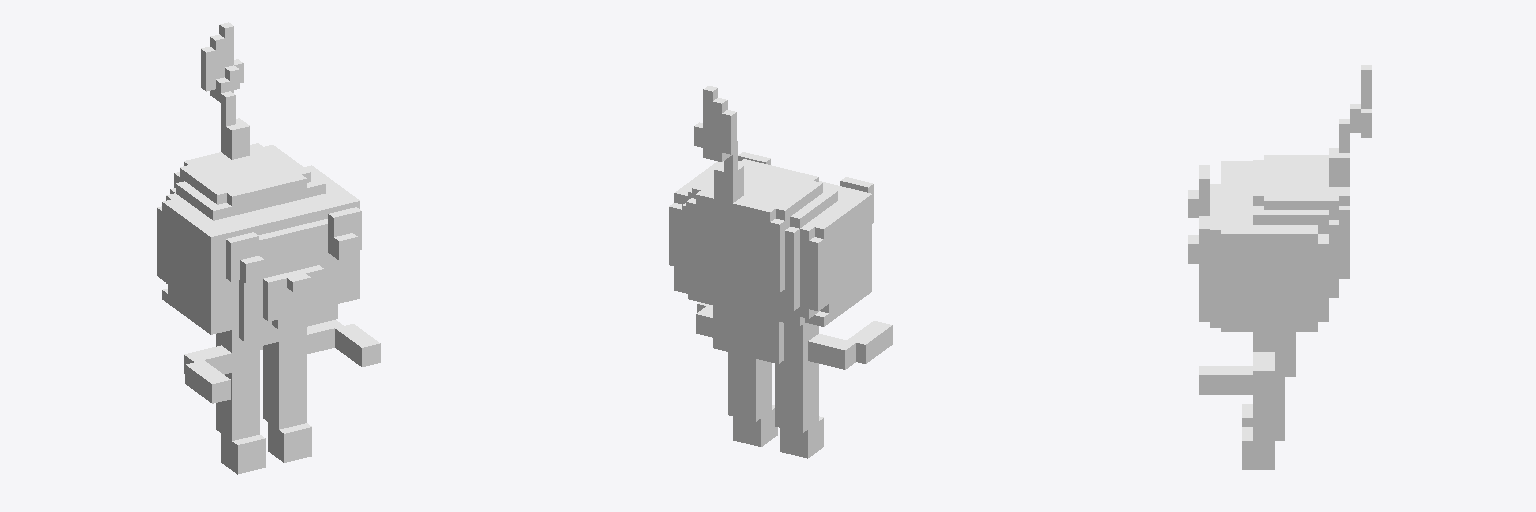
Rendered from peachhead.obj.
The picture shows the model from 3 angles: view 1: azimuth 30°, elevation 25°; view 2: azimuth 150°, elevation 25°; view 3: azimuth 270°, elevation 25°; orthographic projection.
Parts seen in each view (by area): view 1: peachhead; view 2: peachhead; view 3: peachhead.
Boxes of the visible parts, <box> form: peachhead: <box>157,22,380,474</box>; peachhead: <box>669,86,892,458</box>; peachhead: <box>1188,65,1371,469</box>.
Bounding box in the file's own units: 18 × 40 × 17.